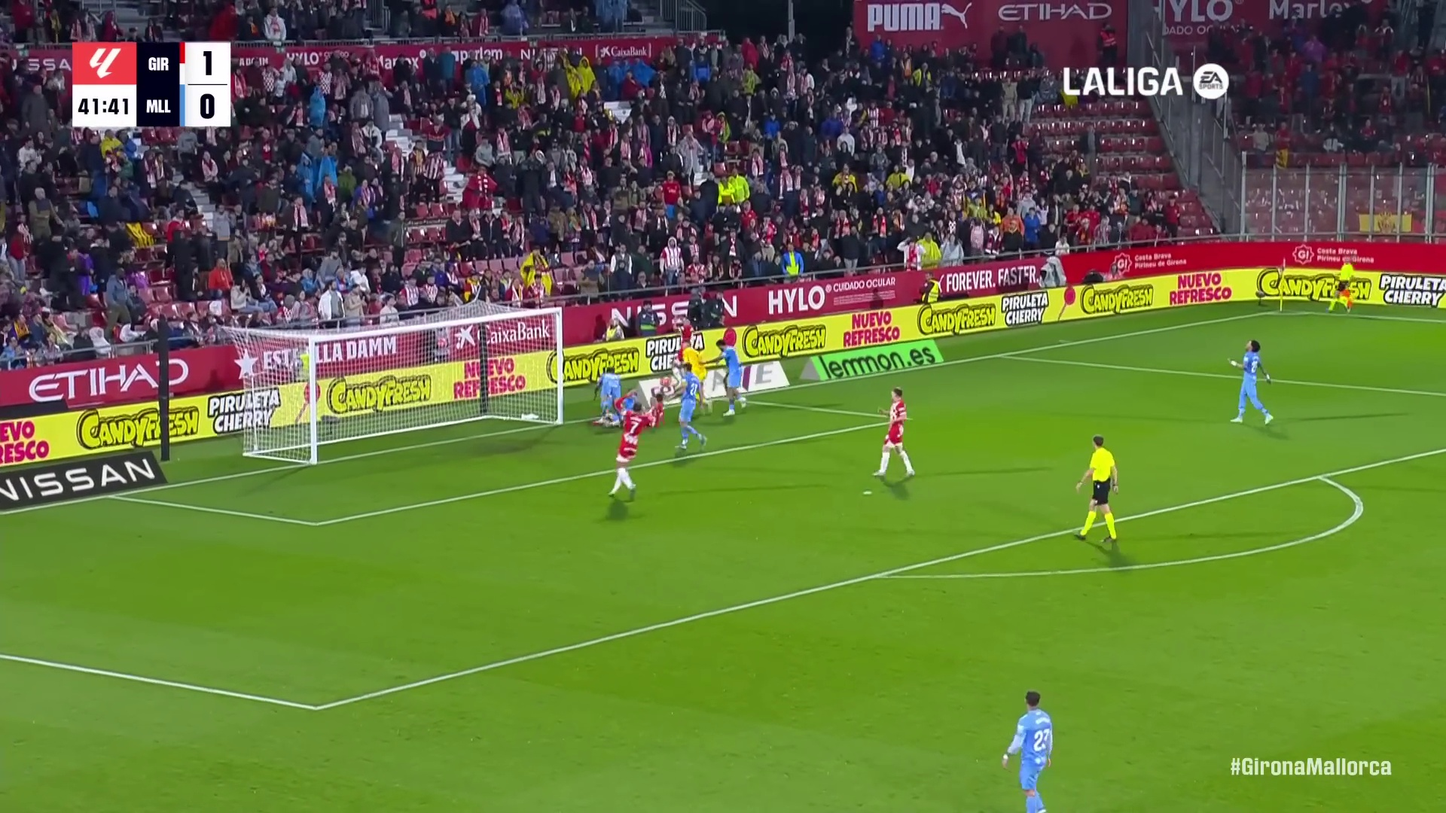ball: (656, 373, 674, 388)
player: (998, 688, 1061, 812), (598, 398, 660, 521), (1224, 338, 1277, 428), (870, 387, 917, 480), (669, 358, 710, 455), (714, 332, 753, 419), (675, 339, 712, 416), (590, 364, 625, 430), (670, 313, 696, 368), (647, 393, 665, 431)
referee: (1072, 434, 1123, 544), (1325, 255, 1359, 316)
